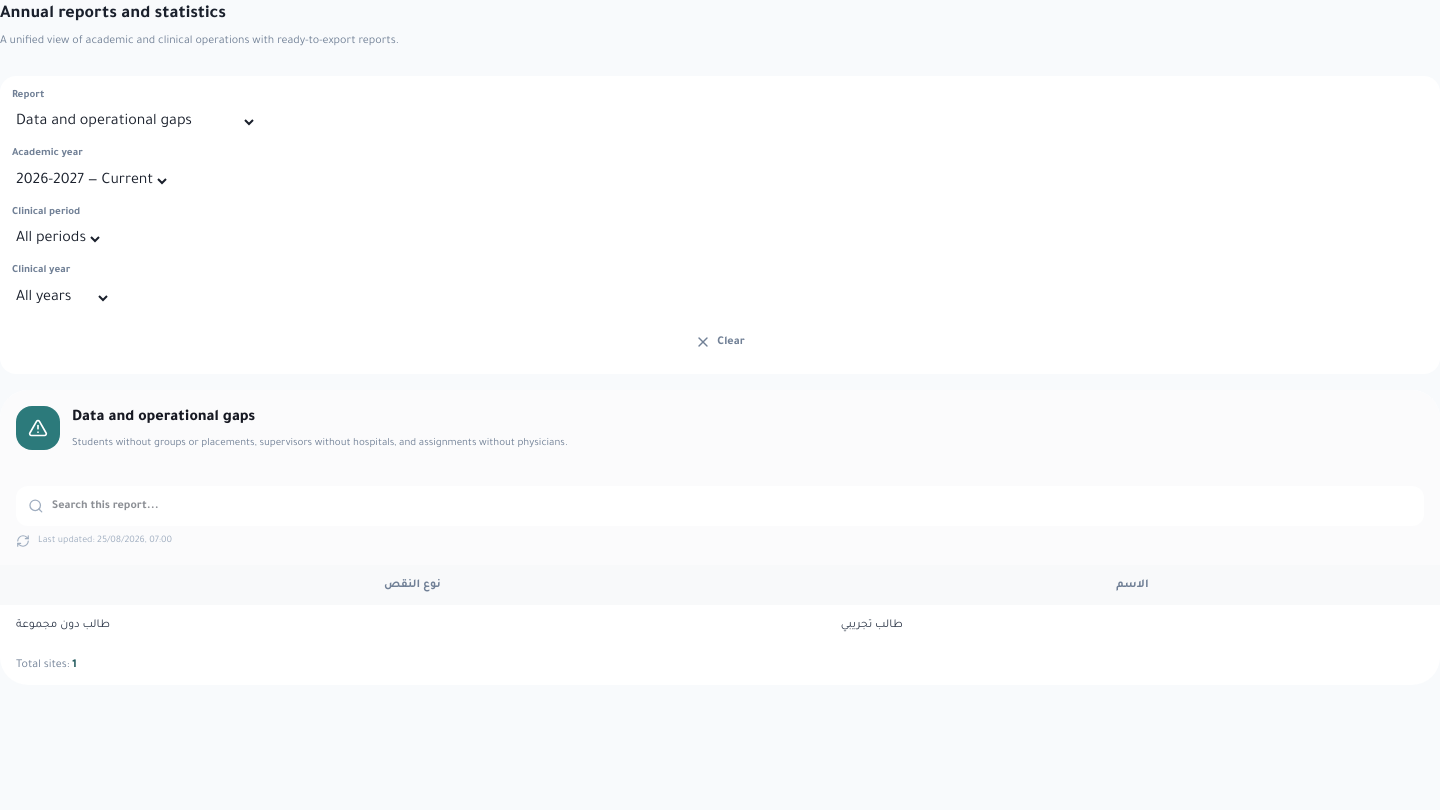
Test case: ReportsDashboard › opens the counted student list from a monthly training-site number
expect the text "طالب تجريبي" is shown: met, box [825, 604, 1439, 644]
Select "Clinical trainees by training site" in the dropdown labelled "Report" at (134, 122), box [12, 113, 257, 131]
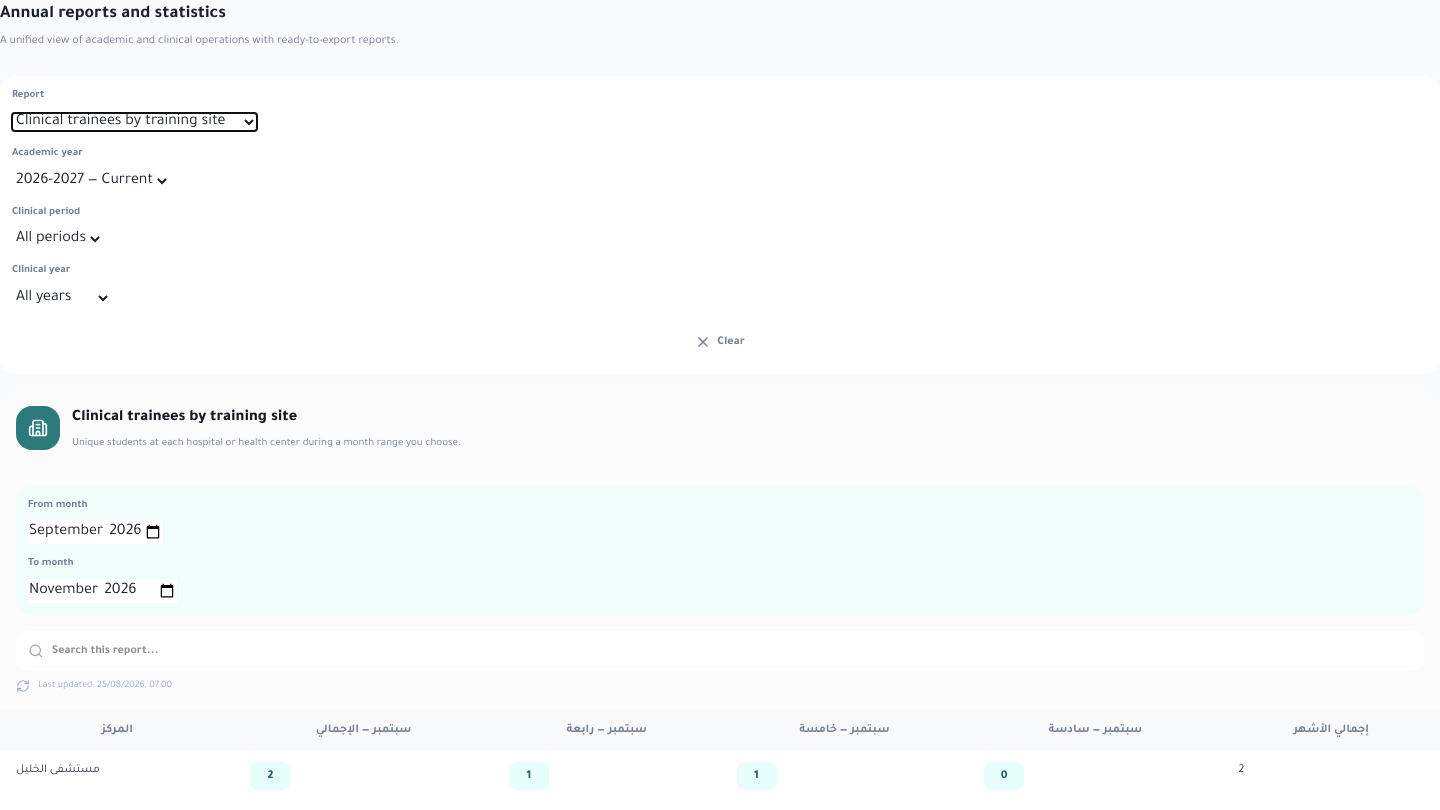
expect the field labelled "From month" holds "2026-09": met, box [28, 520, 163, 544]
expect the field labelled "To month" holds "2026-11": met, box [28, 578, 177, 602]
expect the text "مستشفى الخليل" is shown: met, box [0, 750, 234, 802]
Click the button "2" at (270, 776), box [250, 762, 290, 790]
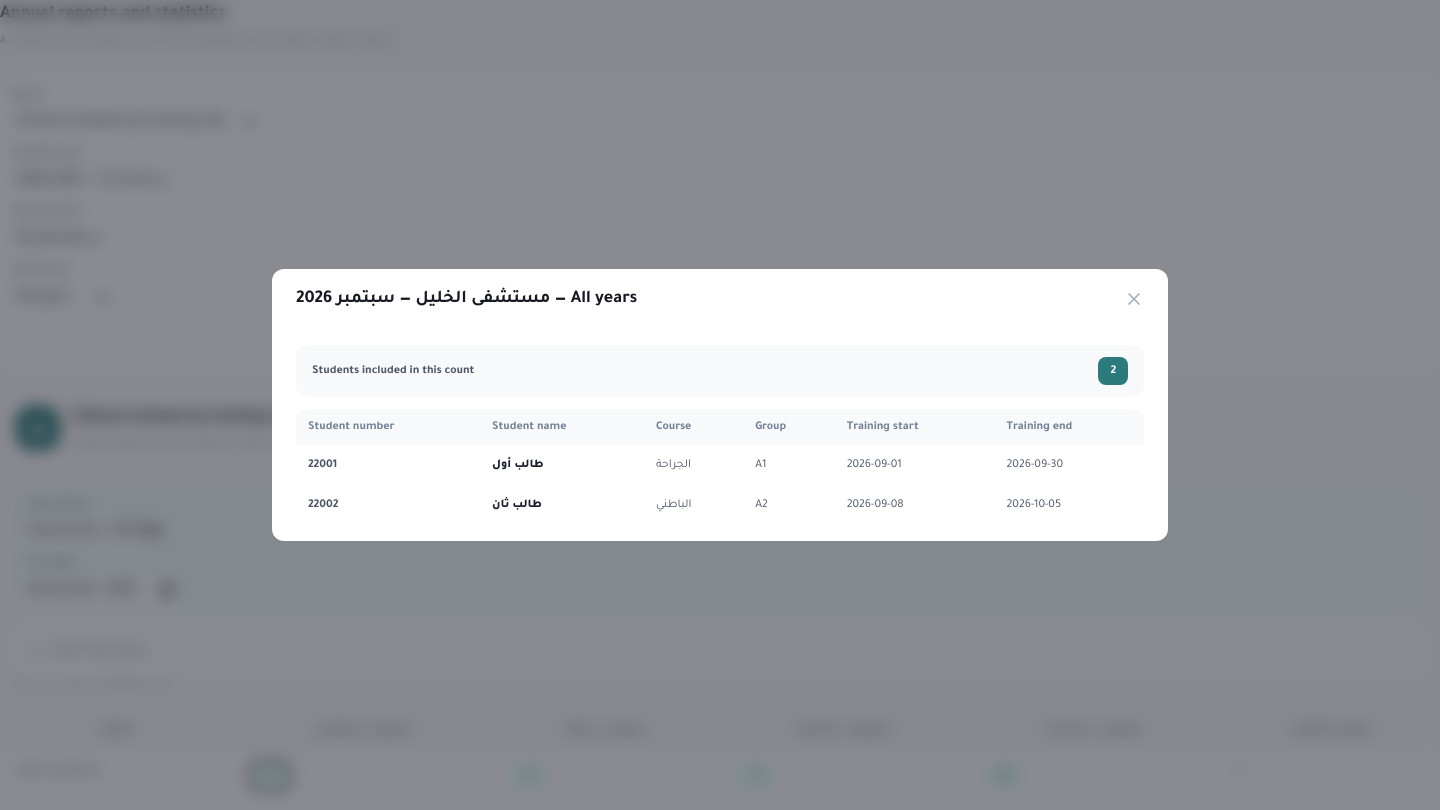
expect the text "طالب أول" is shown: met, box [480, 445, 644, 485]
expect the text "طالب ثان" is shown: met, box [480, 485, 644, 525]
expect the text "22001" is shown: met, box [296, 445, 480, 485]
